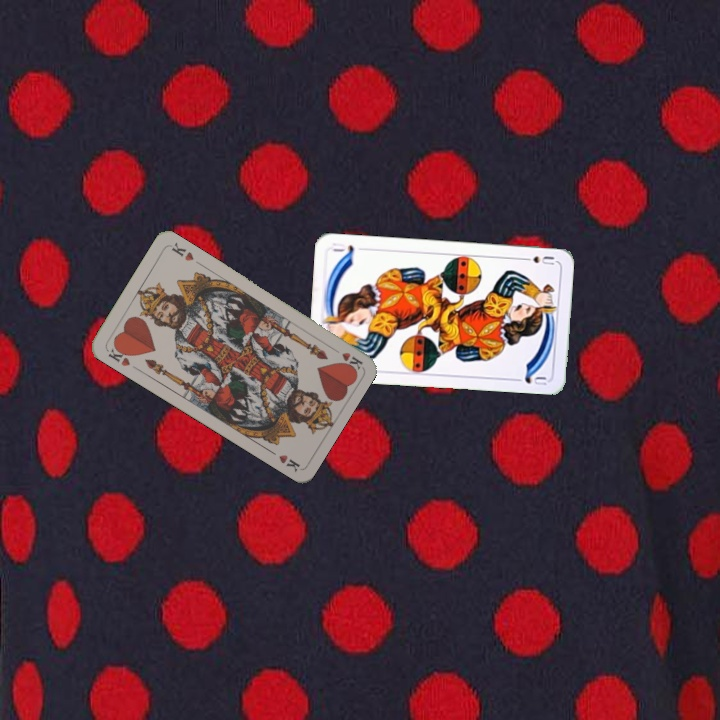HK: (327, 342, 365, 372), (103, 341, 133, 369)
SU: (517, 252, 557, 267)
